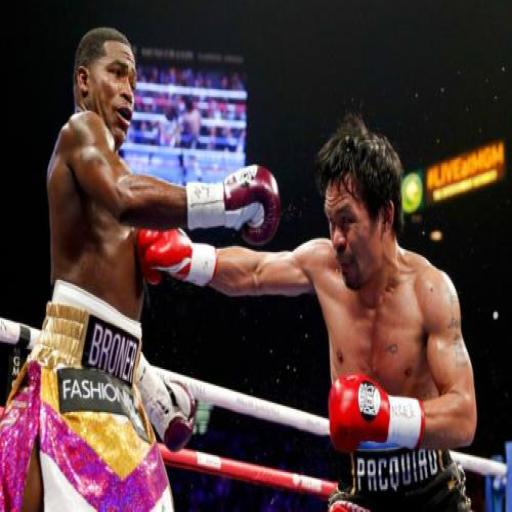boxing: (133, 114, 479, 510), (0, 24, 281, 510)
